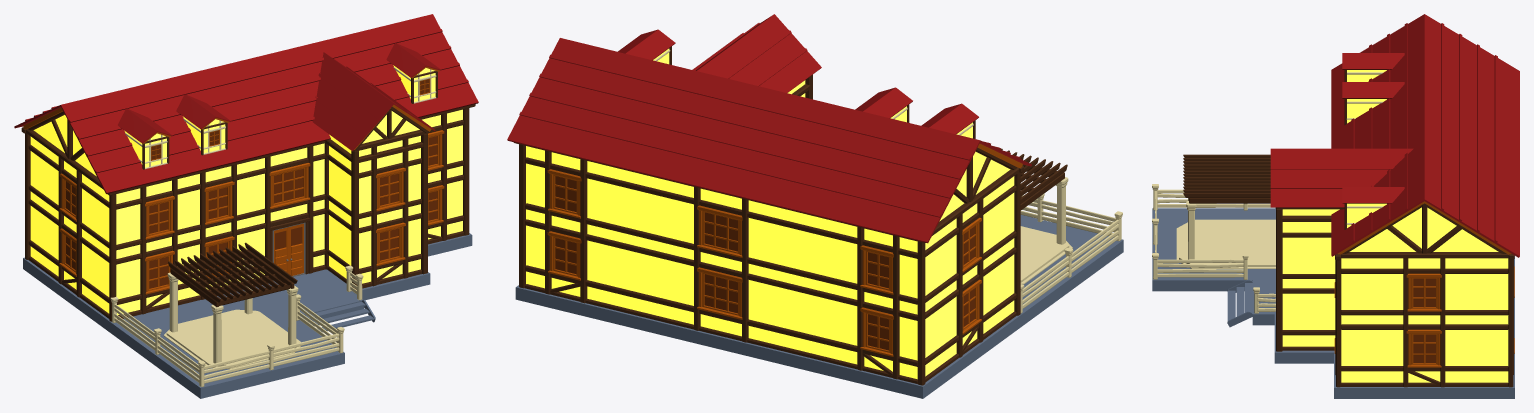
Rendered from house_01.glb.
3 renders of one model, left to right at view 1: azimuth 30°, elevation 25°; view 2: azimuth 150°, elevation 25°; view 3: azimuth 270°, elevation 25°, orthographic. The views are drawn at different scales.
Parts seen in each view (by area): view 1: house_01.001; view 2: house_01.001; view 3: house_01.001.
Boxes of the visible parts, x1,y1,x2,y2 form: house_01.001: (14,14,478,398); house_01.001: (507,14,1123,398); house_01.001: (1152,14,1519,398).
Bounding box in the file's own units: 17.96 × 9.25 × 15.06.
